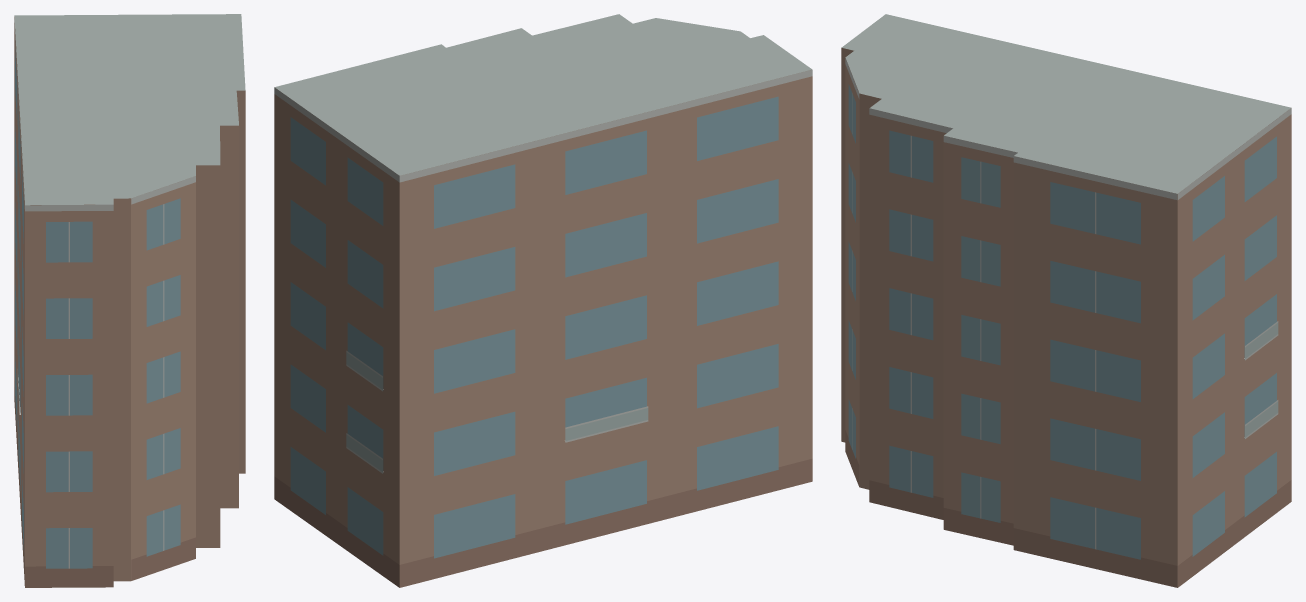
The model's file is survey-upis-32929202.glb.
3 views of the same model, side by side, from view 1: azimuth 30°, elevation 25°; view 2: azimuth 150°, elevation 25°; view 3: azimuth 270°, elevation 25° (orthographic). The views are drawn at different scales.
Visible parts, largest first — view 1: survey-upis-32929202.tmp; view 2: survey-upis-32929202.tmp; view 3: survey-upis-32929202.tmp.
Part boxes in pixels (box(x1,y1,x2,y2)): survey-upis-32929202.tmp: box(14, 14, 245, 587); survey-upis-32929202.tmp: box(274, 14, 812, 587); survey-upis-32929202.tmp: box(841, 14, 1291, 587).
Size of the model in its own units: 14.7 by 15 by 15.54.
